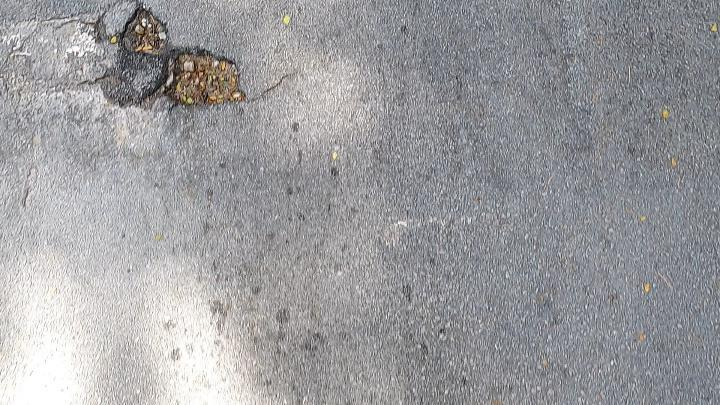Pothole: (0, 1, 247, 107), (0, 1, 246, 106)
